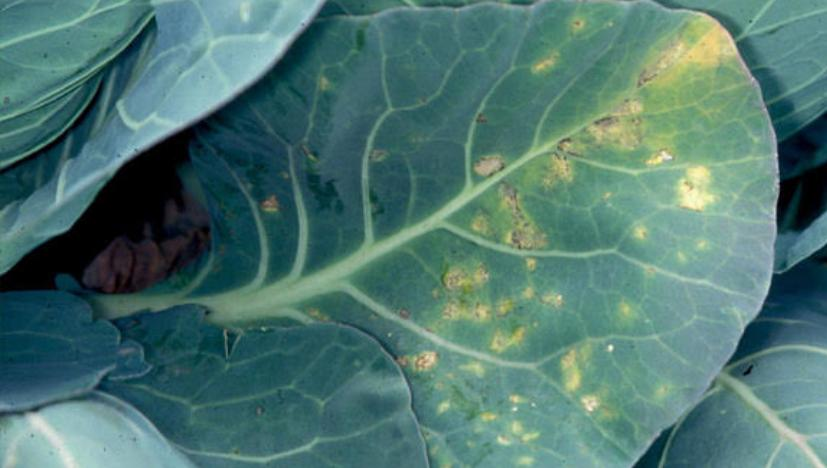Bok-Choy-Diseased: (142, 14, 813, 468)
